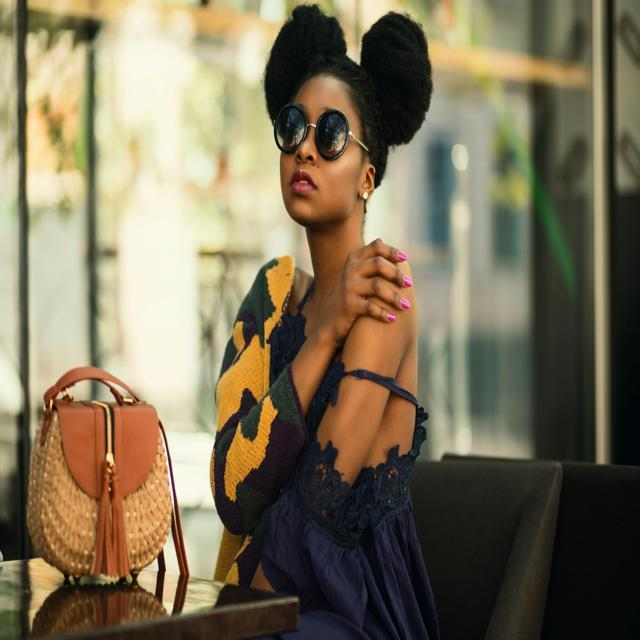2_gafas: (271, 102, 371, 161)
